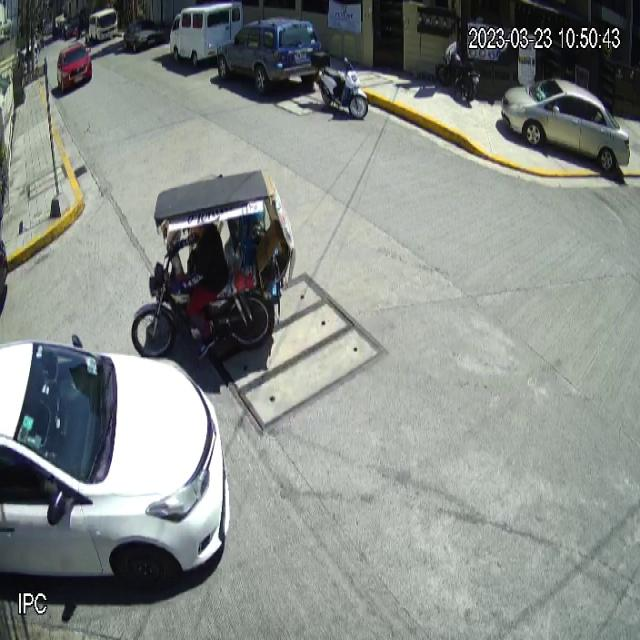Car: (0, 332, 231, 584), (500, 76, 630, 173), (215, 15, 322, 93)
Motorcycle: (311, 51, 368, 120)
Tricycle: (131, 168, 294, 360)
Van: (170, 0, 244, 63)
